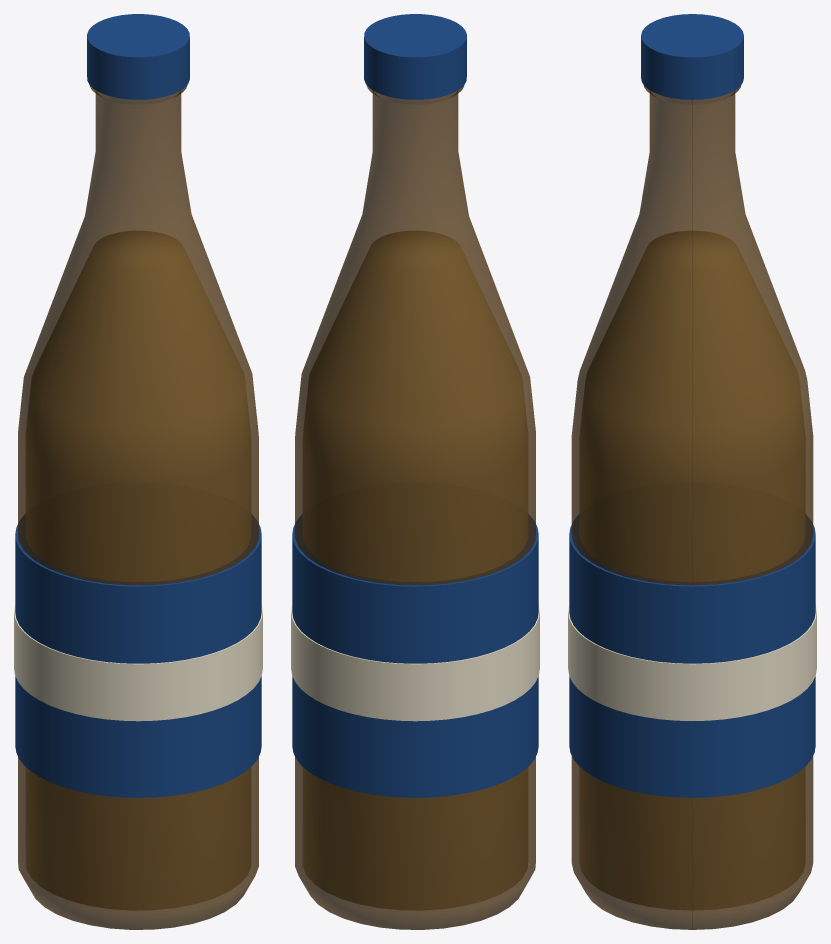
Rendered from cocktail-forst-0-0.glb.
3 renders of one model, left to right at view 1: azimuth 30°, elevation 25°; view 2: azimuth 150°, elevation 25°; view 3: azimuth 270°, elevation 25°, orthographic.
Size of the model in its own units: 0.0638 by 0.24 by 0.0638.
